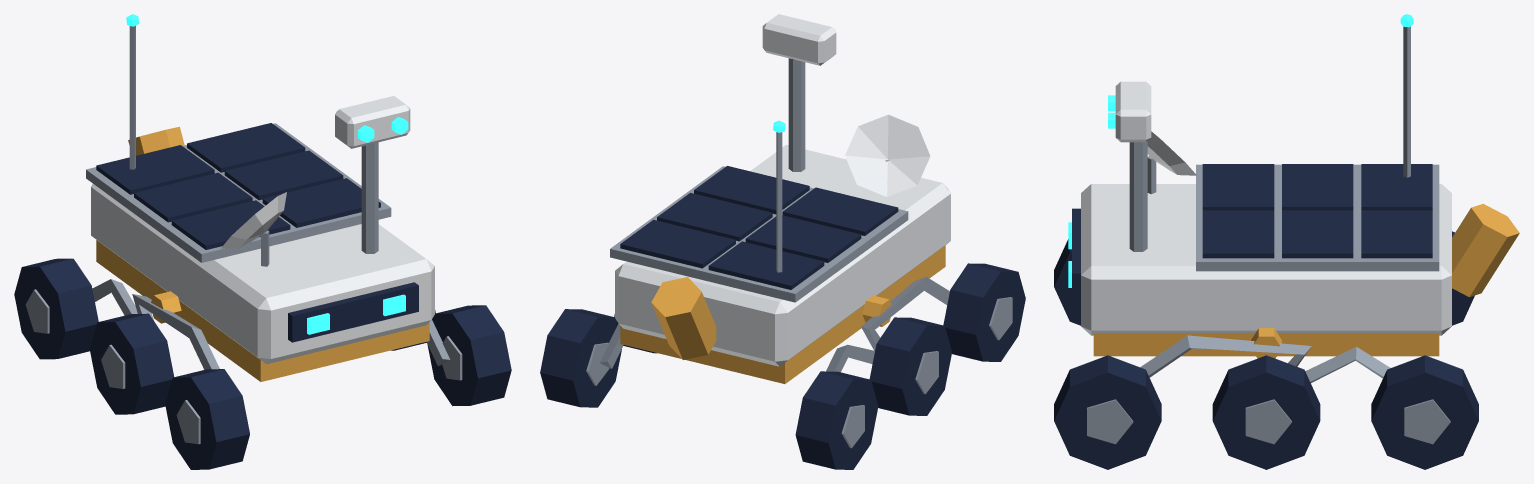
Rendered from rover.glb.
The picture shows the model from 3 angles, left to right: view 1: azimuth 30°, elevation 25°; view 2: azimuth 150°, elevation 25°; view 3: azimuth 270°, elevation 25°; orthographic projection. The views are drawn at different scales.
Visible parts, largest first — view 1: rover; view 2: rover; view 3: rover.
Boxes of the visible parts, x1=… form: rover: x1=14, y1=14, x2=511, y2=469; rover: x1=540, y1=14, x2=1025, y2=469; rover: x1=1054, y1=14, x2=1519, y2=469.
Bounding box in the file's own units: 1.42 × 1.5 × 1.82.
